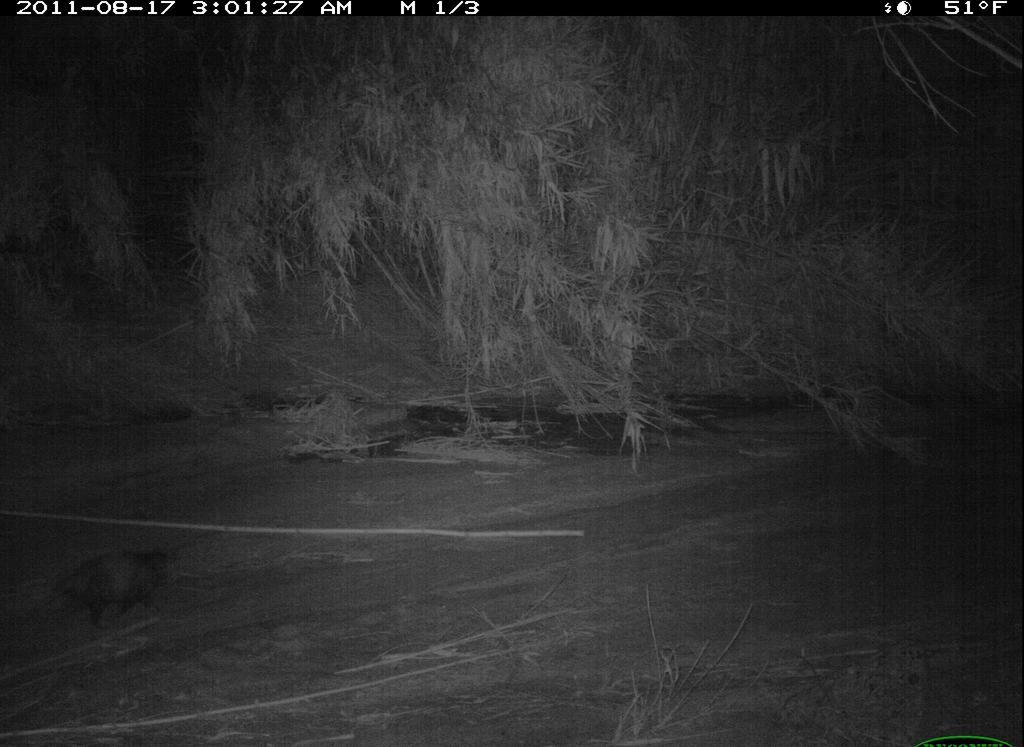opossum: (9, 538, 240, 632)
